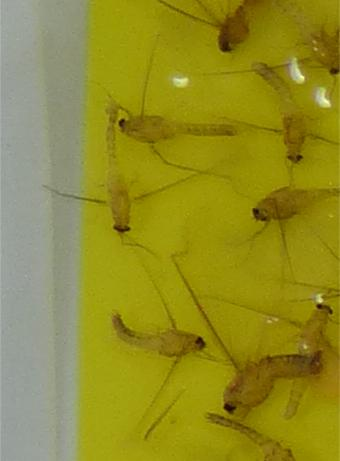Ephemeroptera: (221, 351, 325, 417), (279, 302, 336, 421), (249, 59, 308, 168), (107, 299, 209, 361), (113, 111, 240, 148), (100, 100, 133, 242), (251, 183, 340, 225), (213, 1, 262, 58)
